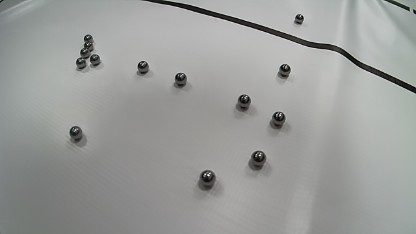ironball: (199, 169, 216, 187), (251, 150, 266, 167), (272, 111, 286, 125), (237, 94, 251, 108), (69, 126, 82, 140), (174, 72, 187, 85), (137, 61, 149, 73), (278, 64, 290, 76), (90, 54, 100, 65), (76, 57, 86, 68), (80, 48, 90, 58), (84, 41, 94, 51), (295, 14, 304, 24), (83, 34, 93, 42)
